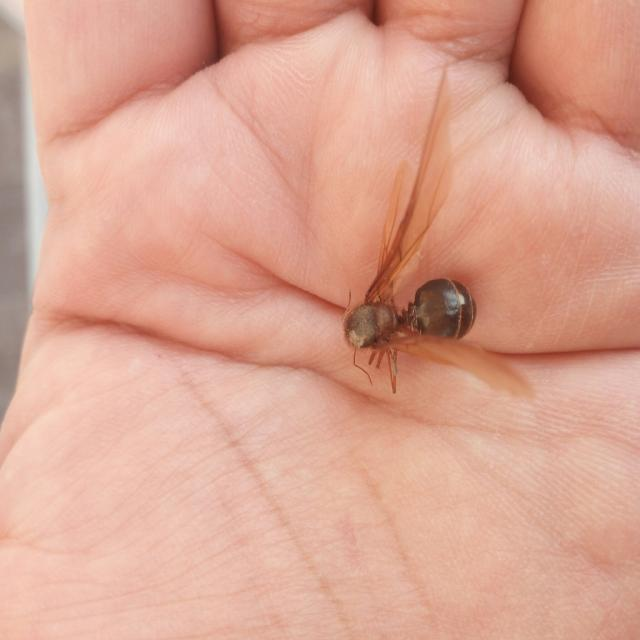Dead-Male-Alate: (341, 64, 477, 394)
